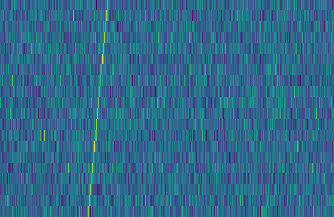signal: (81, 0, 110, 217)
